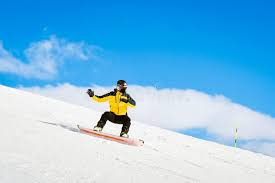snowboarder: (74, 77, 145, 148)
